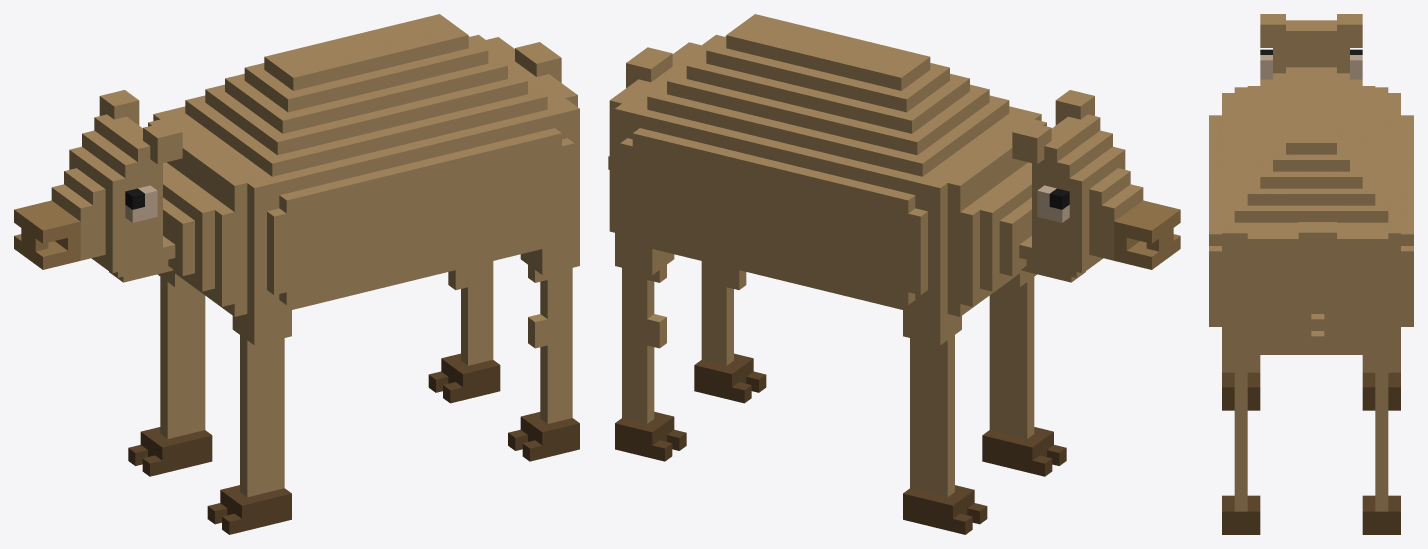
The model's file is Background_B_deco_01.FBX.
3 renders of one model, left to right at view 1: azimuth 30°, elevation 25°; view 2: azimuth 150°, elevation 25°; view 3: azimuth 270°, elevation 25°, orthographic. The views are drawn at different scales.
Parts seen in each view (by area): view 1: untitled-2; view 2: untitled-2; view 3: untitled-2.
Boxes of the visible parts, left/top/right/bottom form: untitled-2: left=14, top=14, right=579, bottom=534; untitled-2: left=608, top=14, right=1180, bottom=534; untitled-2: left=1209, top=14, right=1413, bottom=534.
Bounding box in the file's own units: 4.4 × 3.1 × 1.6.
1 material, 1 textured.
